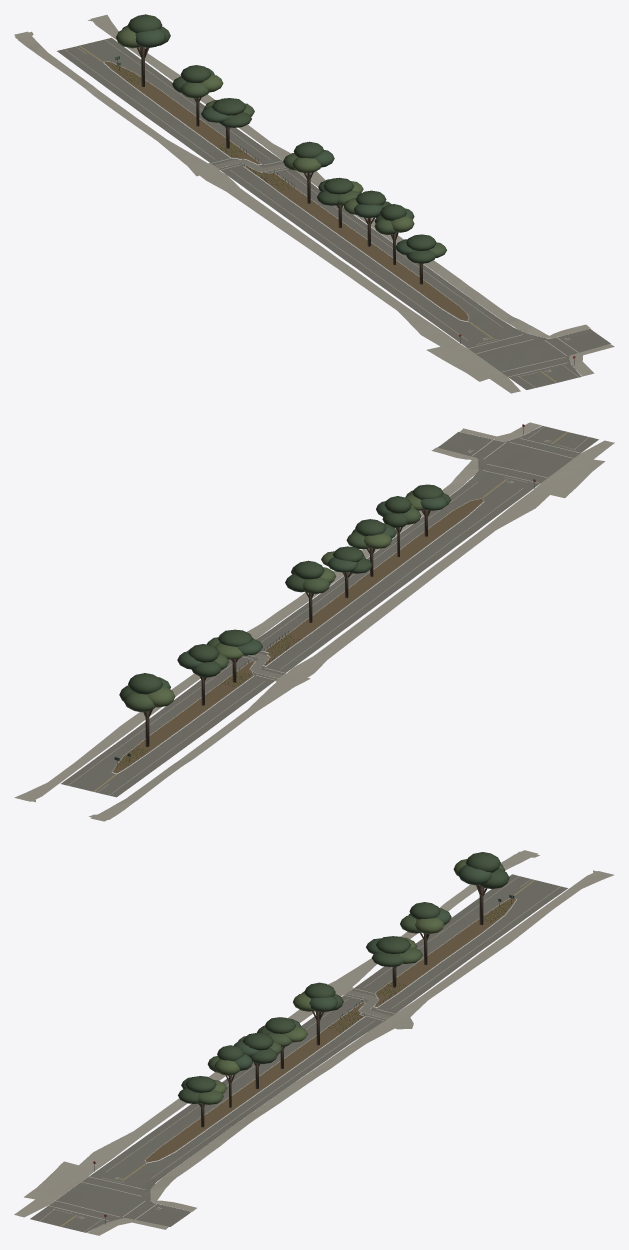
The model's file is site.glb.
3 views of the same model, one above another, from view 1: azimuth 30°, elevation 25°; view 2: azimuth 150°, elevation 25°; view 3: azimuth 330°, elevation 25° (orthographic).
Parts seen in each view (by area): view 1: agate-thirteenth-fifteenth-paving, agate-thirteenth-fifteenth-planting, agate-thirteenth-fifteenth-markings; view 2: agate-thirteenth-fifteenth-paving, agate-thirteenth-fifteenth-planting, agate-thirteenth-fifteenth-markings; view 3: agate-thirteenth-fifteenth-paving, agate-thirteenth-fifteenth-planting, agate-thirteenth-fifteenth-markings.
Boxes of the visible parts, x1,y1,x2,y2 form: agate-thirteenth-fifteenth-paving: (14,15,614,393); agate-thirteenth-fifteenth-planting: (111,14,446,284); agate-thirteenth-fifteenth-markings: (64,39,578,387); agate-thirteenth-fifteenth-paving: (14,422,614,821); agate-thirteenth-fifteenth-planting: (116,484,450,768); agate-thirteenth-fifteenth-markings: (68,426,588,795); agate-thirteenth-fifteenth-paving: (14,850,613,1235); agate-thirteenth-fifteenth-planting: (178,852,511,1127); agate-thirteenth-fifteenth-markings: (40,876,560,1231).
Bounding box in the file's own units: 43 × 19.76 × 255.
